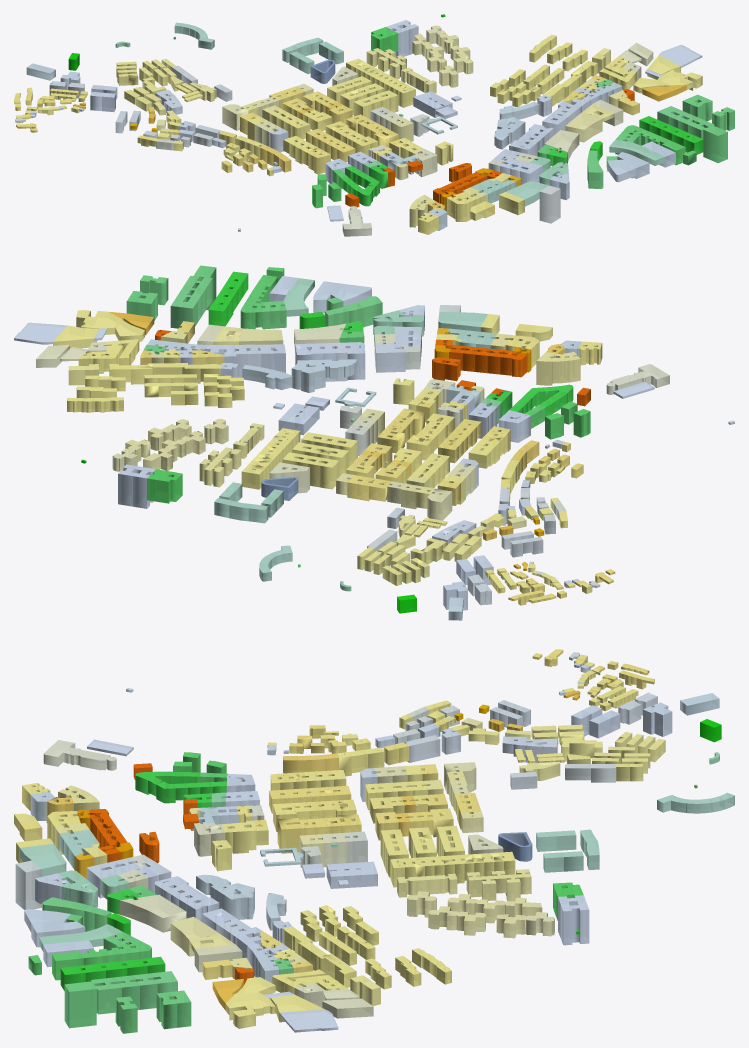
Rendered from prueba.gltf.
3 views of the same model, one above another, from view 1: azimuth 30°, elevation 25°; view 2: azimuth 150°, elevation 25°; view 3: azimuth 270°, elevation 25° (orthographic). The views are drawn at different scales.
Visible parts, largest first — view 1: prueba; view 2: prueba; view 3: prueba.
Part boxes in pixels (bbox=[...]): prueba: bbox=[14, 14, 734, 236]; prueba: bbox=[14, 265, 734, 620]; prueba: bbox=[14, 649, 734, 1033].
Size of the model in its own units: 1012 by 49 by 809.
